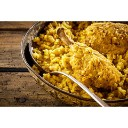briyani: (38, 25, 127, 97)
